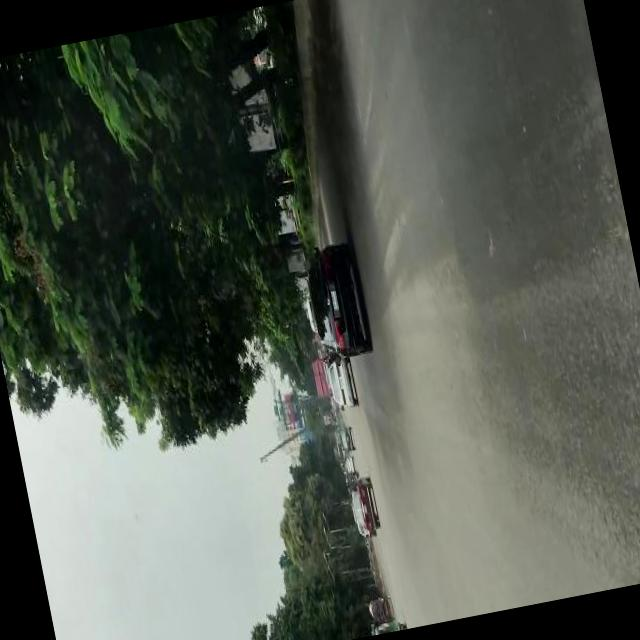car: (302, 247, 369, 359), (325, 358, 360, 410), (348, 477, 380, 530), (338, 426, 357, 454), (345, 457, 356, 474)
motorcycle: (366, 594, 393, 620)
